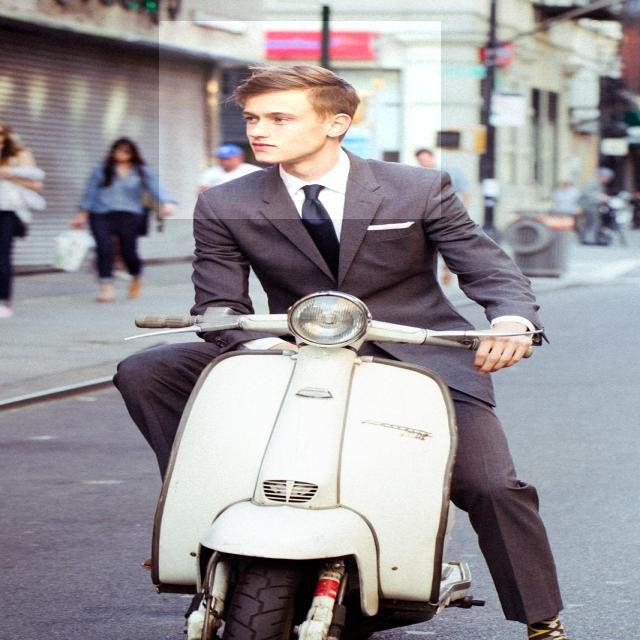No_Helmet: (159, 21, 441, 219)
